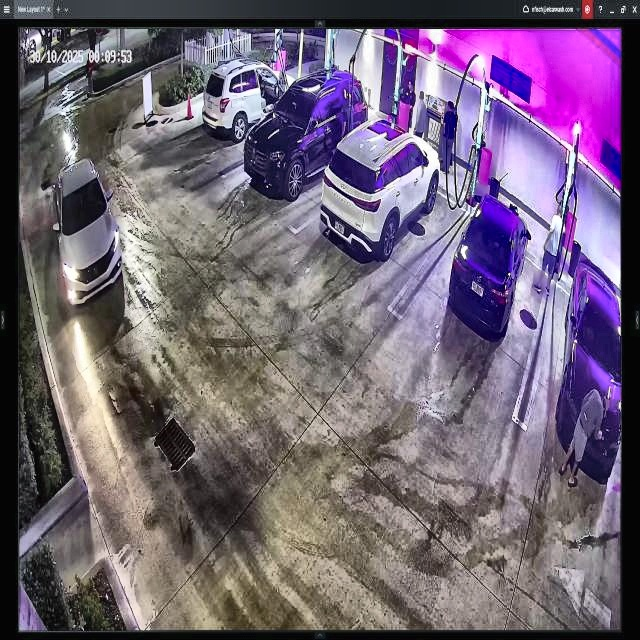Car: (320, 121, 441, 263), (247, 66, 365, 196), (446, 196, 529, 342)
